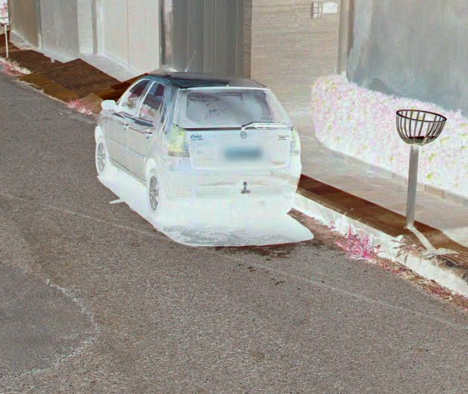car: (87, 46, 307, 230)
